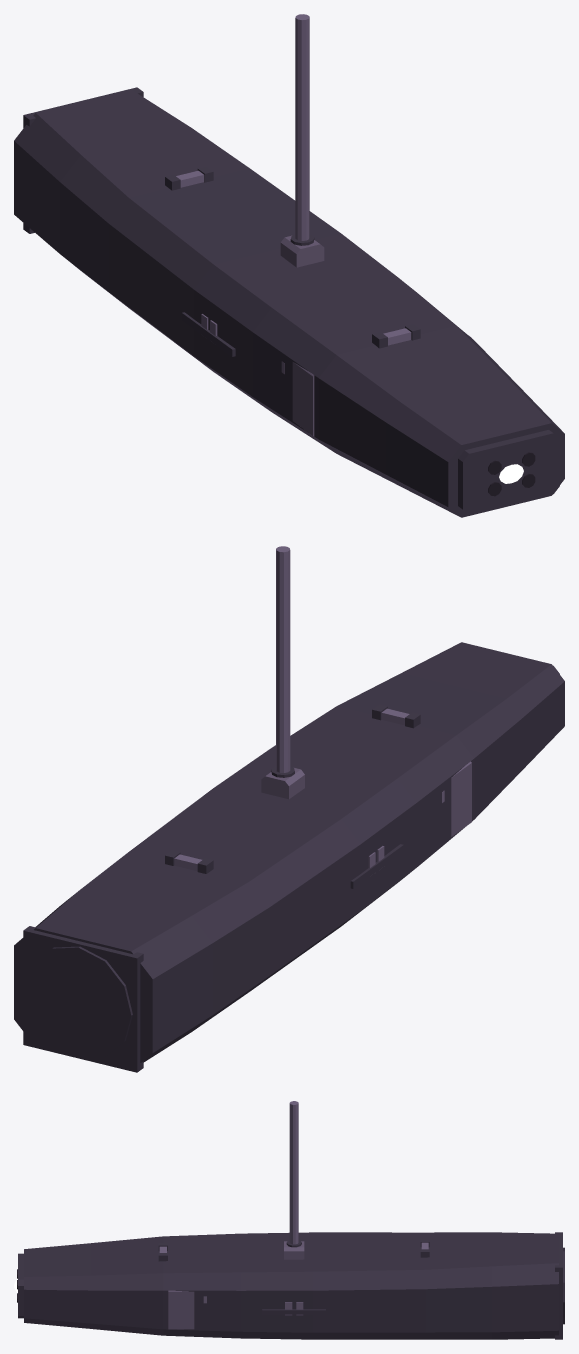
3 renders of one model, top to bottom at view 1: azimuth 30°, elevation 25°; view 2: azimuth 150°, elevation 25°; view 3: azimuth 270°, elevation 25°, orthographic. The views are drawn at different scales.
Parts seen in each view (by area): view 1: RIMWARD_HULL; view 2: RIMWARD_HULL; view 3: RIMWARD_HULL.
Part boxes in pixels (box(x1,y1,x2,y2)): RIMWARD_HULL: box(14, 14, 564, 517); RIMWARD_HULL: box(14, 546, 564, 1072); RIMWARD_HULL: box(17, 1101, 564, 1339).
Size of the model in its own units: 2.47 by 4.87 by 10.88.
